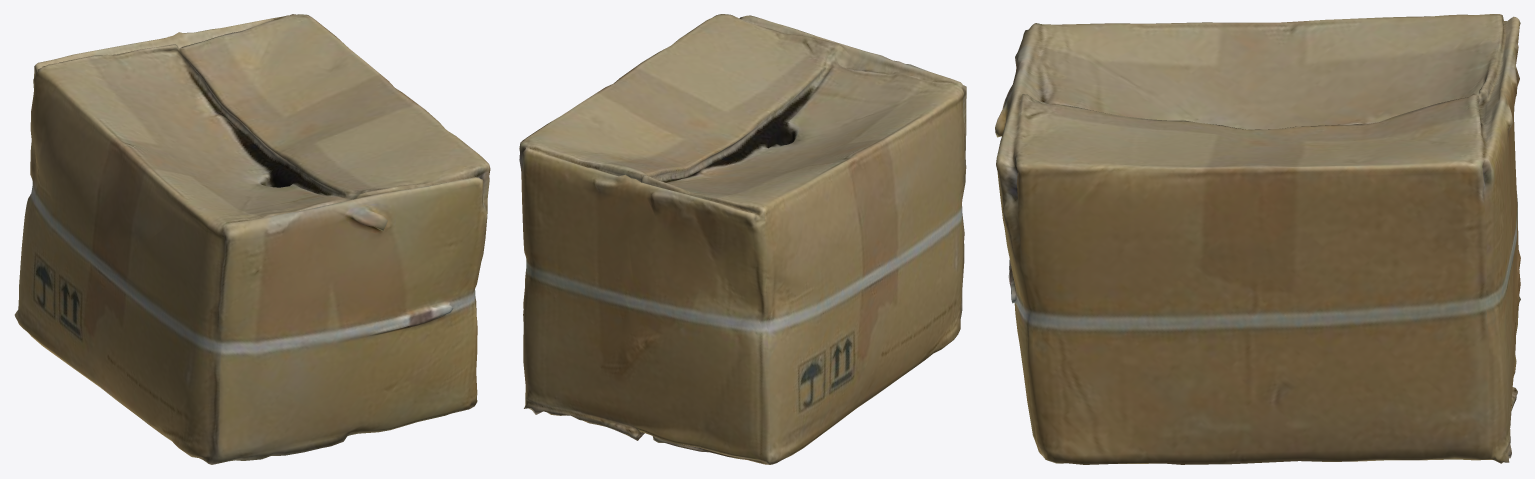
The model's file is cardboard_box_01.glb.
3 renders of one model, left to right at view 1: azimuth 30°, elevation 25°; view 2: azimuth 150°, elevation 25°; view 3: azimuth 270°, elevation 25°, orthographic. The views are drawn at different scales.
Parts seen in each view (by area): view 1: cardboard_box_01; view 2: cardboard_box_01; view 3: cardboard_box_01.
Part boxes in pixels (x1,y1,x2,y2): cardboard_box_01: (14, 14, 490, 464); cardboard_box_01: (519, 14, 966, 464); cardboard_box_01: (995, 14, 1520, 464).
Bounding box in the file's own units: 0.3868 × 0.3418 × 0.5159.
1 material, 1 textured.
